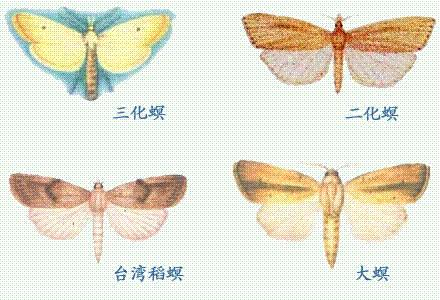pest: (232, 161, 432, 245), (241, 12, 438, 89), (9, 172, 189, 243), (13, 12, 172, 77)
